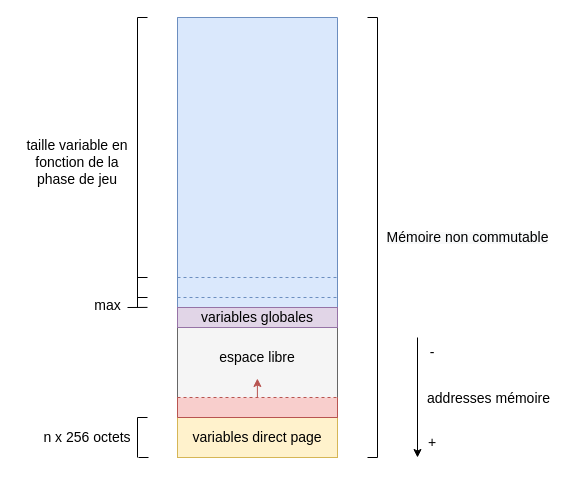
Some shapes in this 566 by 483 pixel diagram are drawn without their labels. Each missing label, with the centre of its shape:
"pile système" belongs at (x=257, y=407).
"programme principal" belongs at (x=257, y=162).
